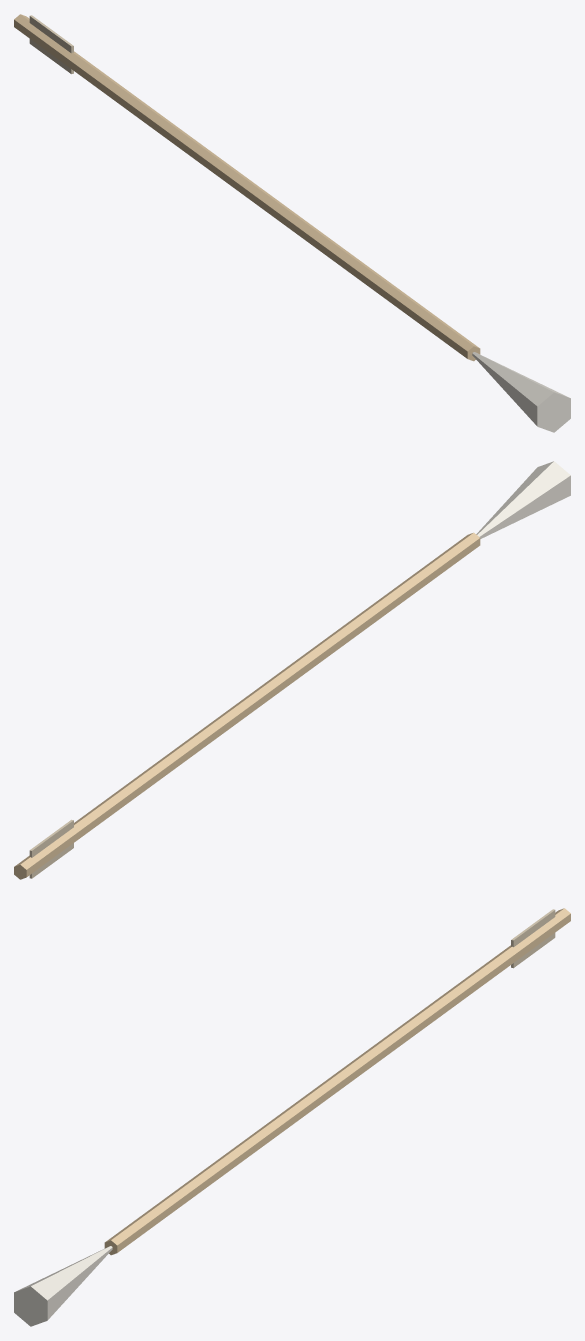
File: SM_BoneArrow.fbx
The picture shows the model from 3 angles, top to bottom: view 1: azimuth 30°, elevation 25°; view 2: azimuth 150°, elevation 25°; view 3: azimuth 330°, elevation 25°; orthographic projection.
Visible parts, largest first — view 1: SM_BoneArrow; view 2: SM_BoneArrow; view 3: SM_BoneArrow.
Part boxes in pixels (box(x1,y1,x2,y2)): SM_BoneArrow: box(14, 14, 570, 432); SM_BoneArrow: box(14, 461, 570, 879); SM_BoneArrow: box(14, 908, 570, 1326).
Bounding box in the file's own units: 277 × 7650 × 320.
